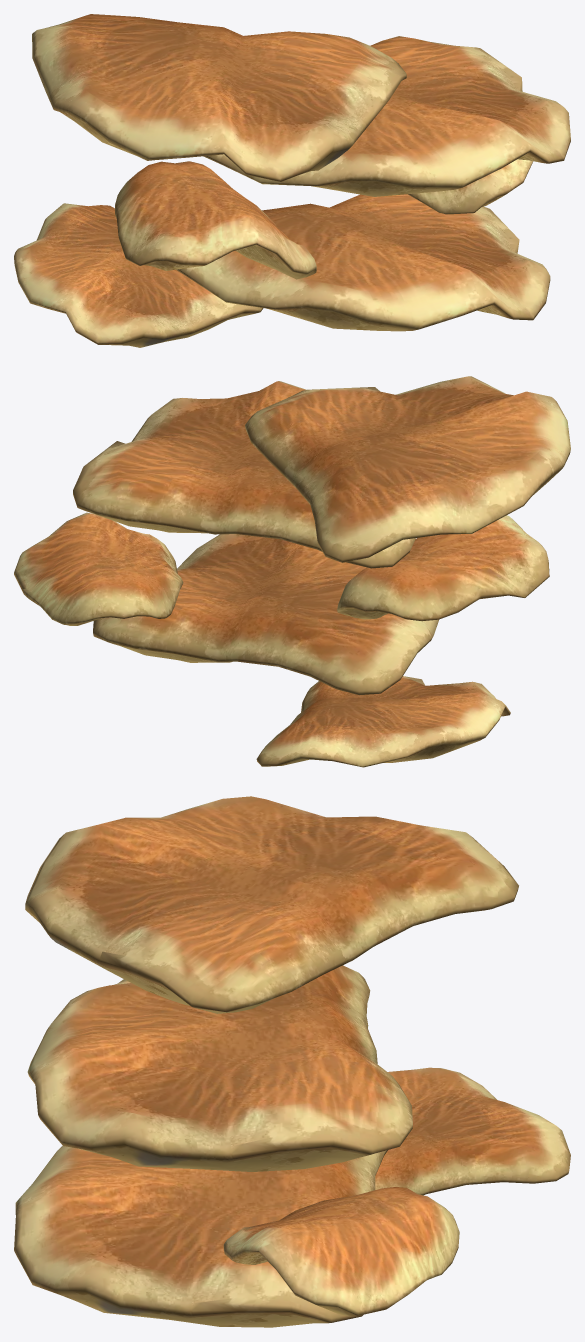
Rendered from Mushroom_Laetiporus.gltf.
3 views of the same model, one above another, from view 1: azimuth 30°, elevation 25°; view 2: azimuth 150°, elevation 25°; view 3: azimuth 270°, elevation 25° (orthographic). The views are drawn at different scales.
Parts seen in each view (by area): view 1: Mushroom_Laetiporus; view 2: Mushroom_Laetiporus; view 3: Mushroom_Laetiporus.
Part boxes in pixels (<box>): Mushroom_Laetiporus: <box>14,14,570,347</box>; Mushroom_Laetiporus: <box>14,376,570,767</box>; Mushroom_Laetiporus: <box>14,796,570,1327</box>.
Bounding box in the file's own units: 1.37 × 0.767 × 1.1.
1 material, 1 textured.
